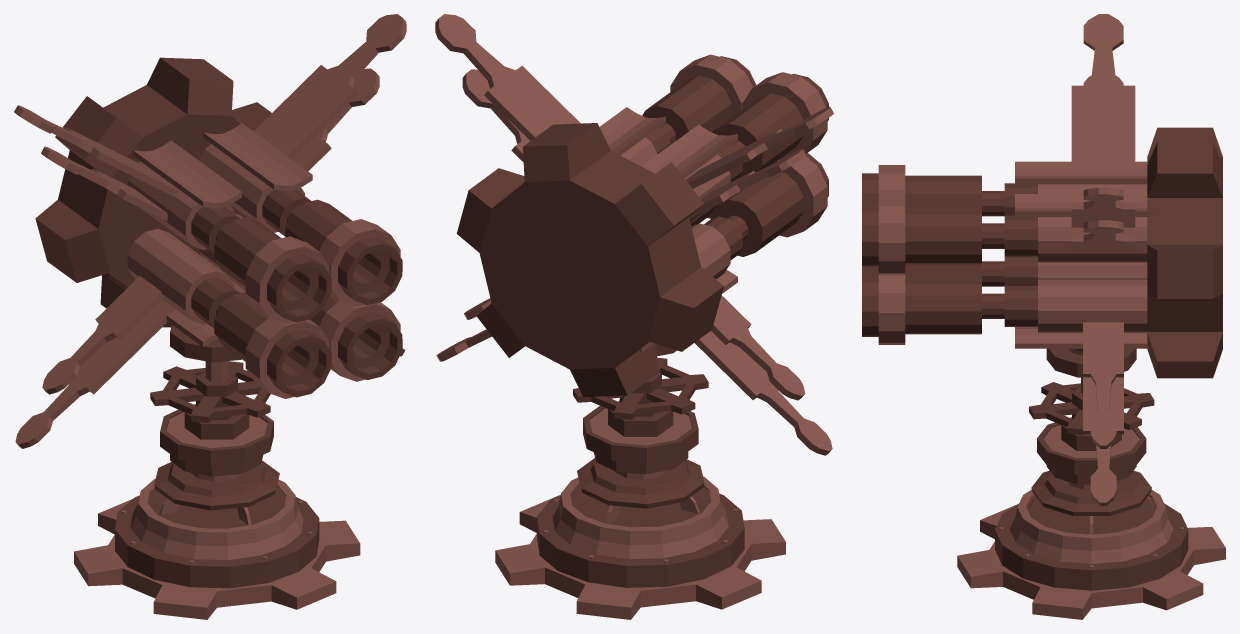
Rendered from bomber-2.glb.
3 views of the same model, side by side, from view 1: azimuth 30°, elevation 25°; view 2: azimuth 150°, elevation 25°; view 3: azimuth 270°, elevation 25° (orthographic). The views are drawn at different scales.
Visible parts, largest first — view 1: Bomber_2_Gun, Bomber_2_Base, Bomber_2_Mid; view 2: Bomber_2_Gun, Bomber_2_Base, Bomber_2_Mid; view 3: Bomber_2_Gun, Bomber_2_Base, Bomber_2_Mid.
Boxes of the visible parts, x1,y1,x2,y2 form: Bomber_2_Gun: (14,14,406,448); Bomber_2_Base: (74,404,360,619); Bomber_2_Mid: (150,325,270,439); Bomber_2_Gun: (435,14,833,455); Bomber_2_Base: (495,405,785,619); Bomber_2_Mid: (573,344,708,436); Bomber_2_Gun: (862,14,1222,505); Bomber_2_Base: (957,417,1225,619); Bomber_2_Mid: (1029,348,1154,450).
Size of the model in its own units: 2.15 by 2.63 by 1.87.
